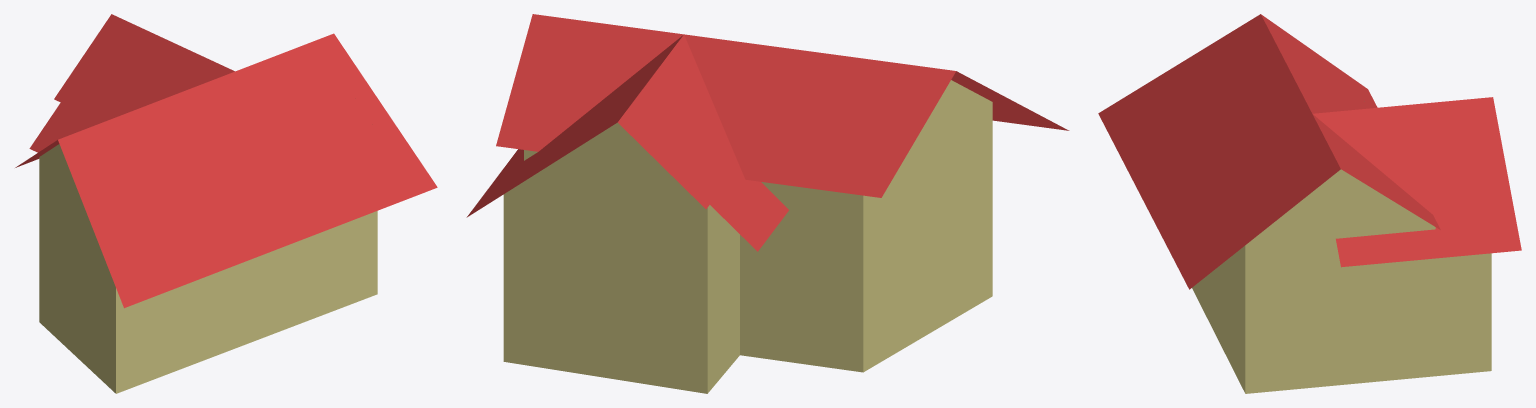
3 renders of one model, left to right at view 1: azimuth 30°, elevation 25°; view 2: azimuth 150°, elevation 25°; view 3: azimuth 270°, elevation 25°, orthographic. The views are drawn at different scales.
Bounding box in the file's own units: 24.33 × 24.7 × 14.58.
